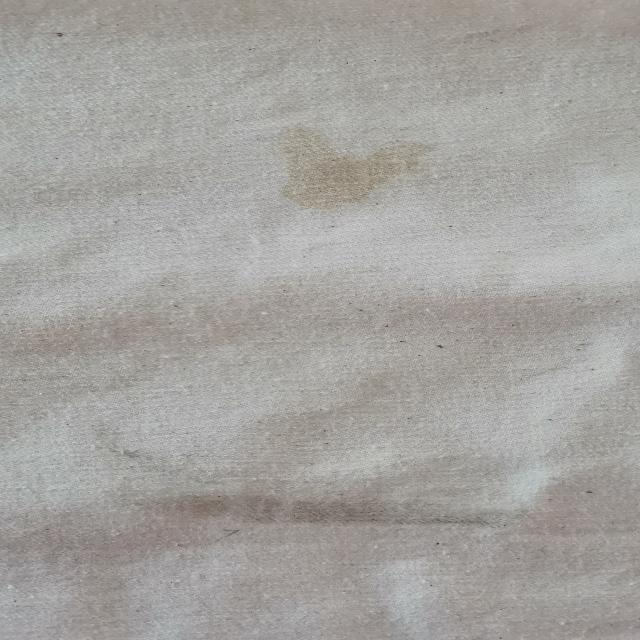taaaches: (120, 487, 564, 542), (260, 122, 448, 219), (72, 420, 160, 462)
